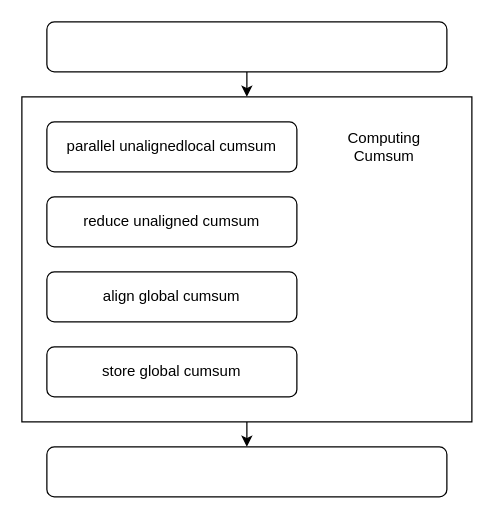
This 494x519 diagram has some shape labels left out. The centre of each missing label's shape, as x and y in pixels:
distributed occurences counting: pixel 246 46
parallel palcement: pixel 246 471
